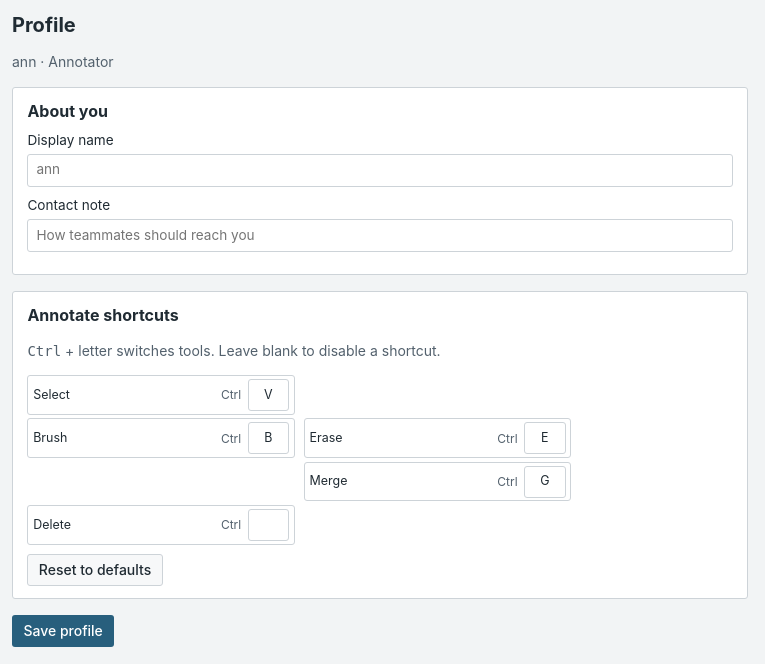
ProfilePage annotate shortcuts › restores the defaults without saving them
Replace the text in the field named "Brush shortcut letter" with "n": (268, 438) [248,422,289,454]
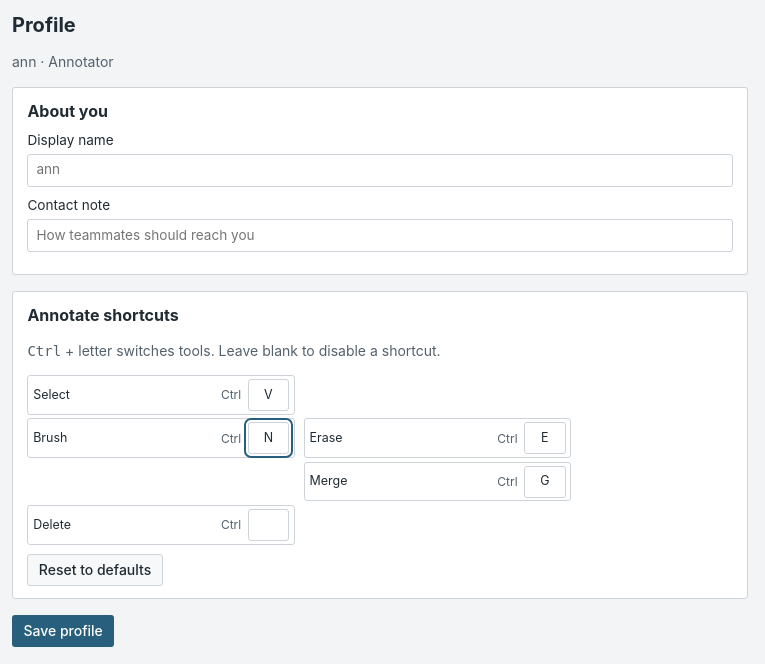
Click the button "Reset to defaults": (95, 570) [27,554,163,586]
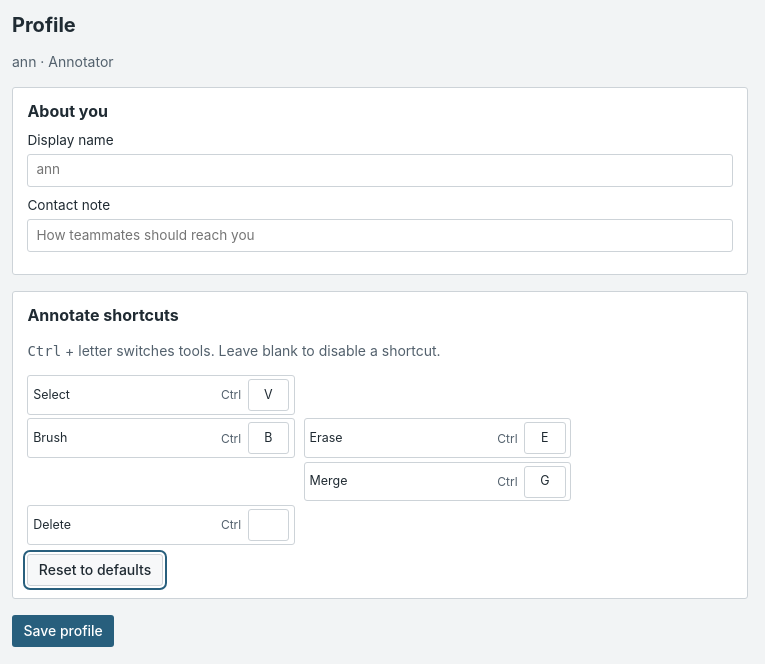
Now the field named "Brush shortcut letter" holds "B", box [248,422,289,454]
